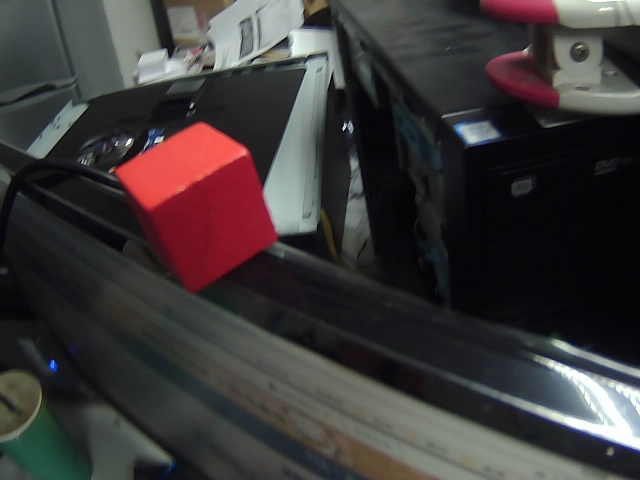redbox: (109, 118, 293, 304)
